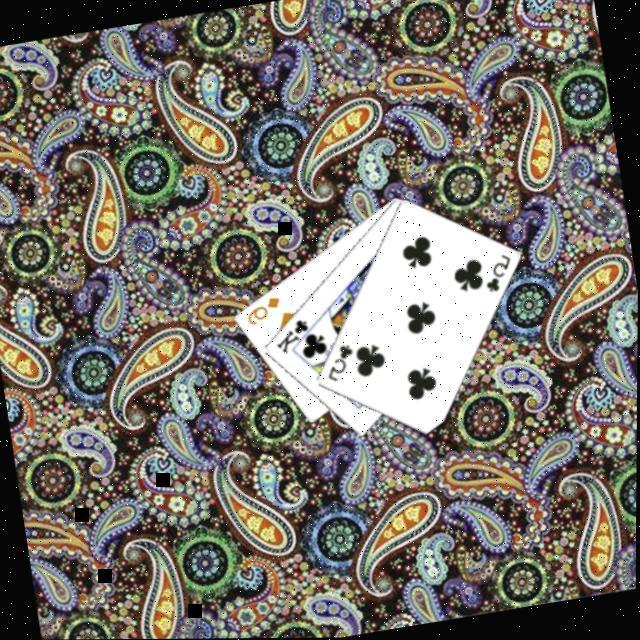5C: (478, 252, 518, 300), (320, 342, 360, 389)
6D: (241, 295, 285, 331)
KC: (270, 316, 322, 361)
